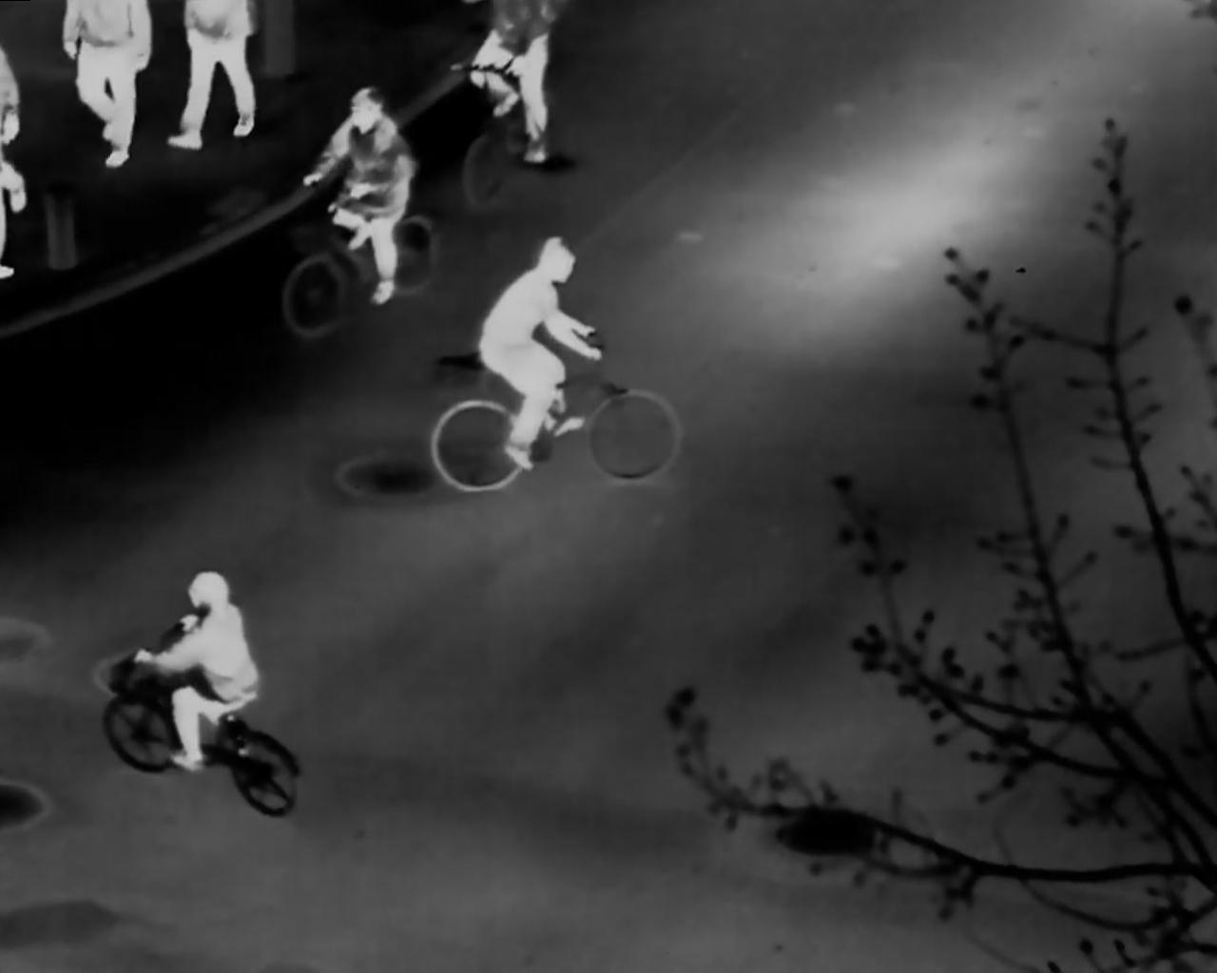person: (475, 235, 604, 474), (130, 572, 261, 775), (301, 86, 418, 304), (60, 2, 153, 169), (468, 2, 557, 166)
